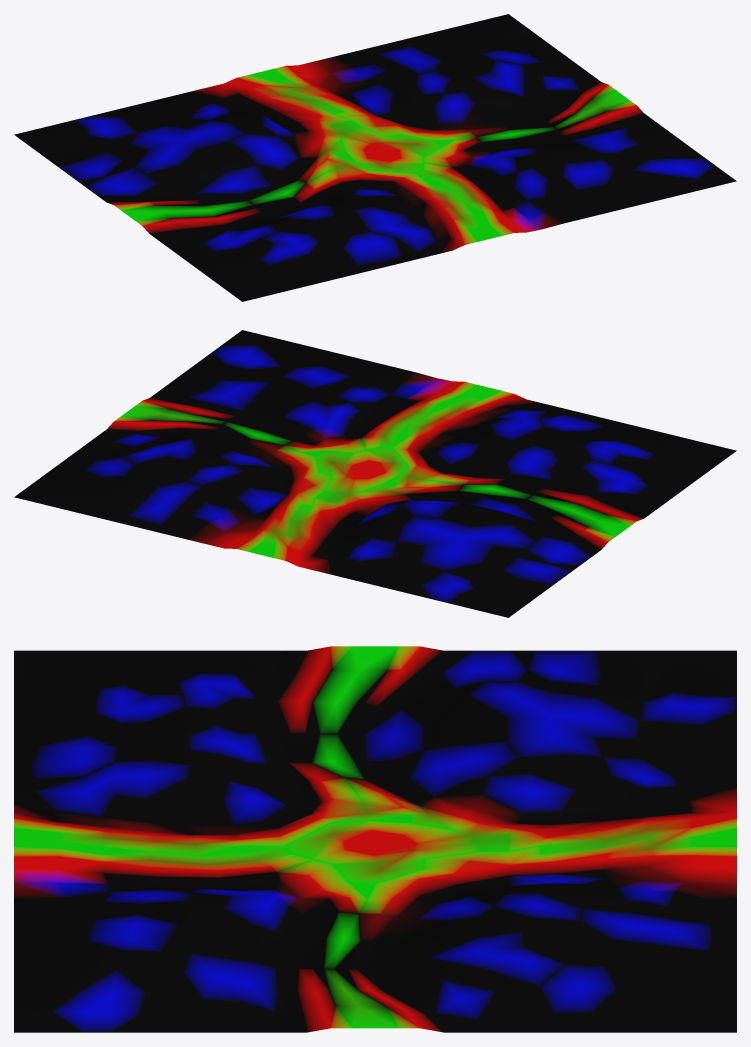
The model's file is Section_MiniBossWayCrossroad01_Steppe_Terrain.fbx.
The picture shows the model from 3 angles, top to bottom: view 1: azimuth 30°, elevation 25°; view 2: azimuth 150°, elevation 25°; view 3: azimuth 270°, elevation 25°; orthographic projection. The views are drawn at different scales.
Visible parts, largest first — view 1: Section_MiniBossWayCrossroad01_Steppe_Terrain; view 2: Section_MiniBossWayCrossroad01_Steppe_Terrain; view 3: Section_MiniBossWayCrossroad01_Steppe_Terrain.
Boxes of the visible parts, box(x1,y1,x2,y2) form: Section_MiniBossWayCrossroad01_Steppe_Terrain: box(14, 14, 736, 301); Section_MiniBossWayCrossroad01_Steppe_Terrain: box(14, 330, 736, 617); Section_MiniBossWayCrossroad01_Steppe_Terrain: box(14, 646, 736, 1032).
Bounding box in the file's own units: 10000 × 258 × 8000.
